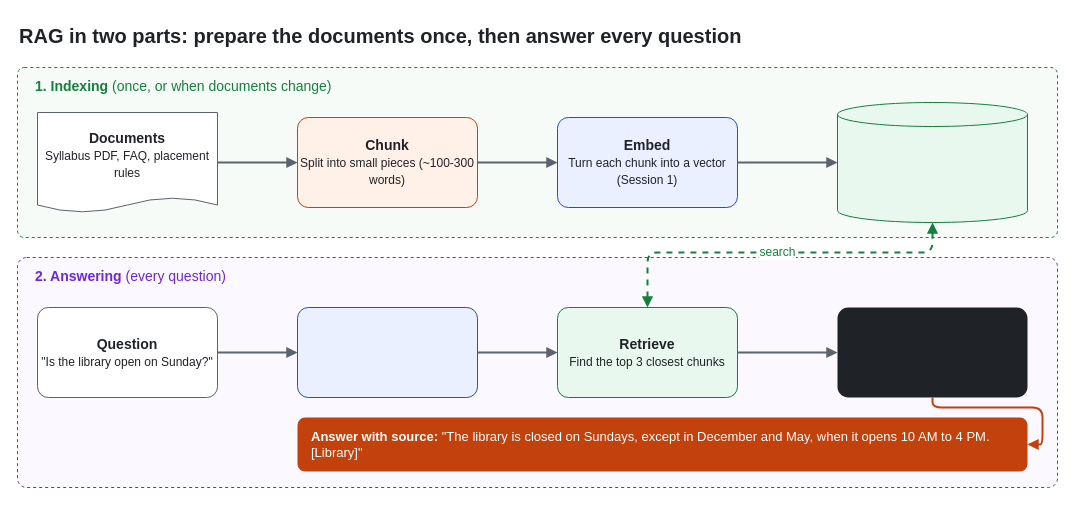
Some shapes in this 1075 by 505 pixel diagram are drawn without their labels. The shapes that lost their labels are listed below. From the top down, each one's centre as x and y in pixels, then its label:
At point 932,162: "Vector database Stores vectors + text + source (Chroma, FAISS...)".
At point 387,352: "Embed Same embedding model as the chunks".
At point 932,352: "Generate LLM gets: rules + chunks + question".
